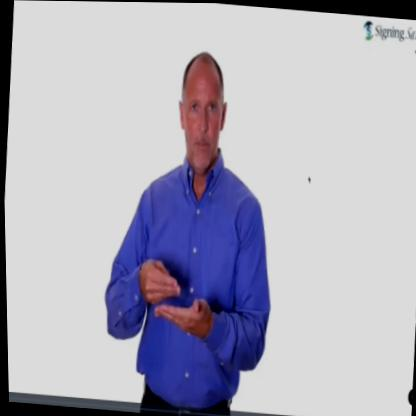Expensive: (126, 235, 221, 341)
